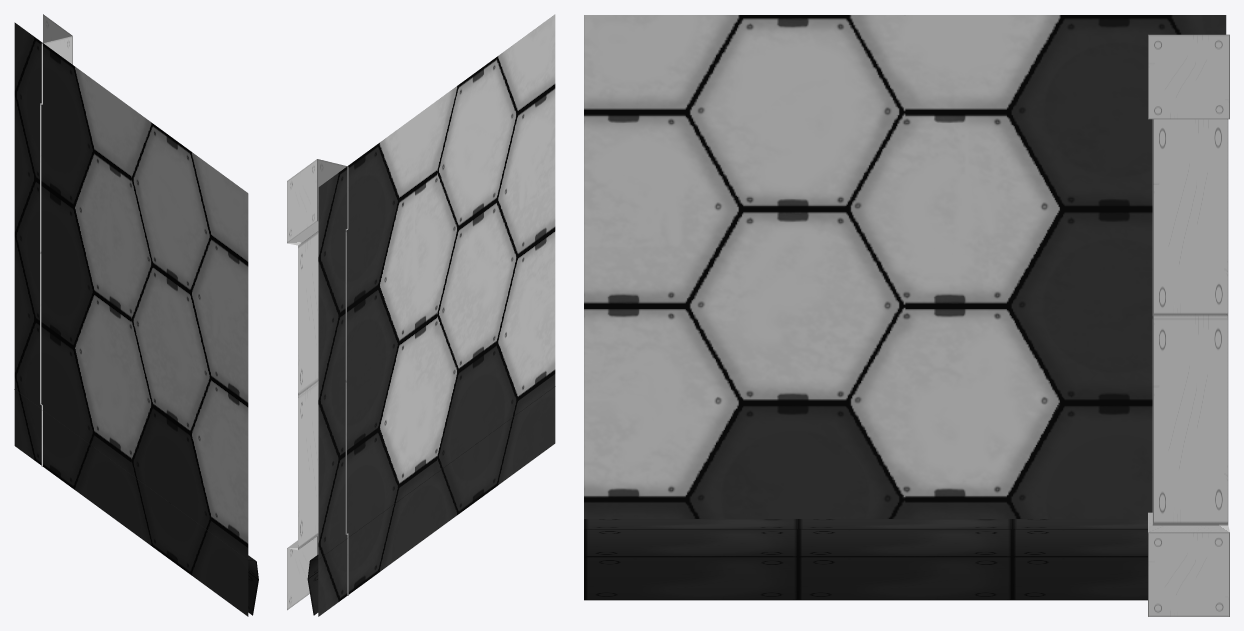
Rendered from Wall_BottomRight.fbx.
3 renders of one model, left to right at view 1: azimuth 30°, elevation 25°; view 2: azimuth 150°, elevation 25°; view 3: azimuth 270°, elevation 25°, orthographic. The views are drawn at different scales.
Visible parts, largest first — view 1: pPlane114; view 2: pPlane114; view 3: pPlane114.
Part boxes in pixels (box(x1,y1,x2,y2)): pPlane114: box(14, 14, 258, 616); pPlane114: box(287, 14, 555, 616); pPlane114: box(584, 15, 1229, 616).
Bounding box in the file's own units: 0.1534 × 2 × 2.01.
